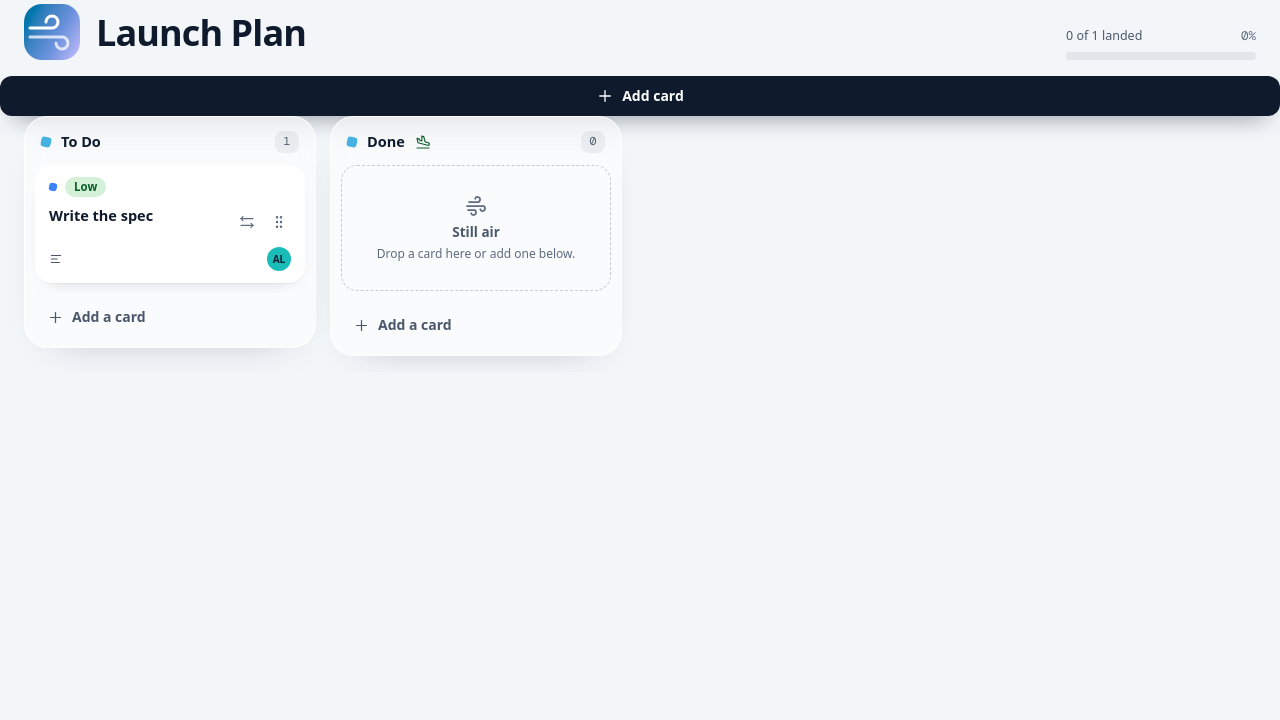
Scenario: Board page adding and saving a task › through the modal, for a card that exists › names the board and the column on the header strip, and follows a move made from inside
This screenshot has width=1280, height=720.
Click the button "Write the spec" at [101, 216], box top-left (47, 204), bottom-right (155, 228)
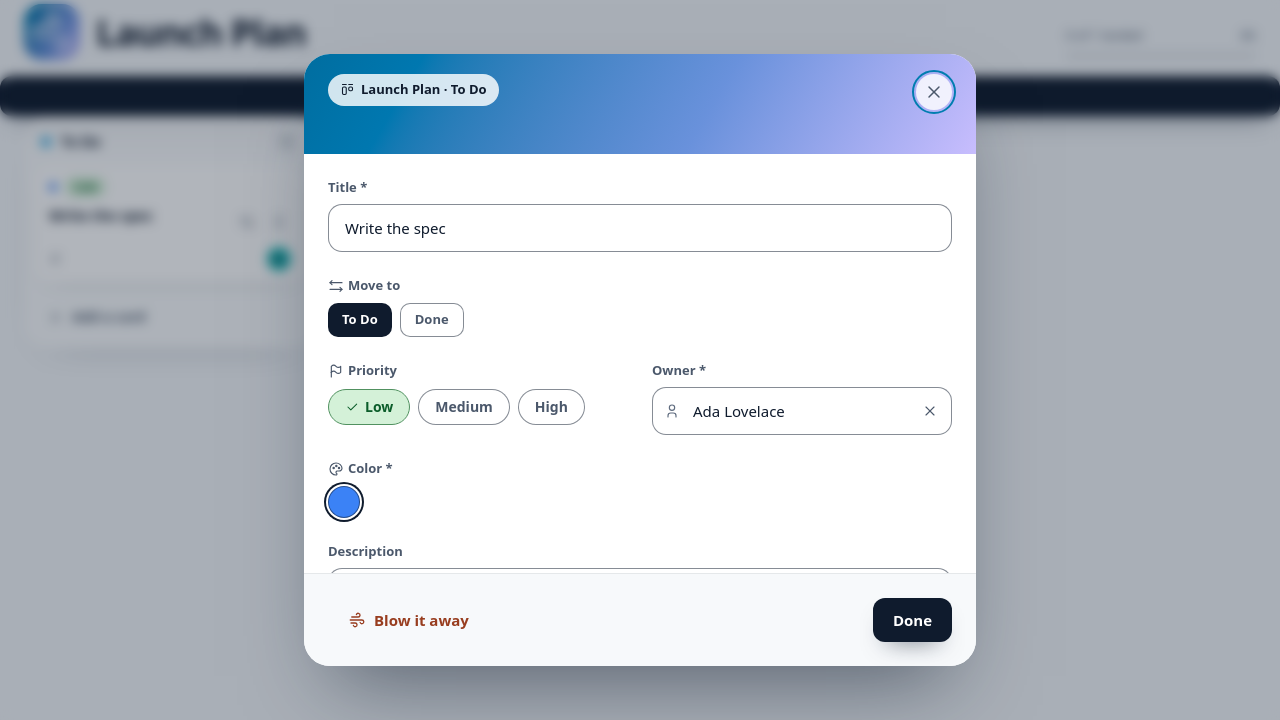
Now the text "Launch Plan · To Do" is shown, box top-left (361, 80), bottom-right (487, 100)
Click the button with aria-label "Move to Done" at [432, 320], box top-left (400, 303), bottom-right (464, 337)
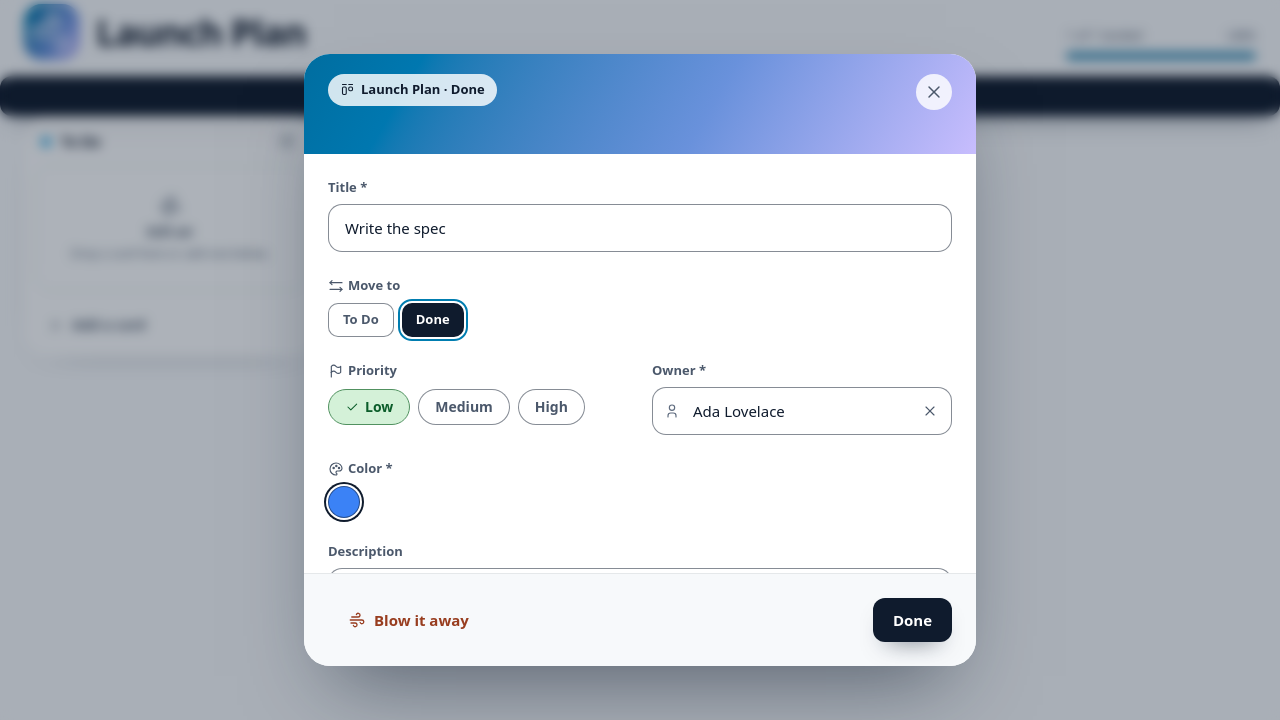
Now the dialog is shown, box top-left (304, 54), bottom-right (976, 666)
Now the text "Launch Plan · Done" is shown, box top-left (361, 80), bottom-right (485, 100)
